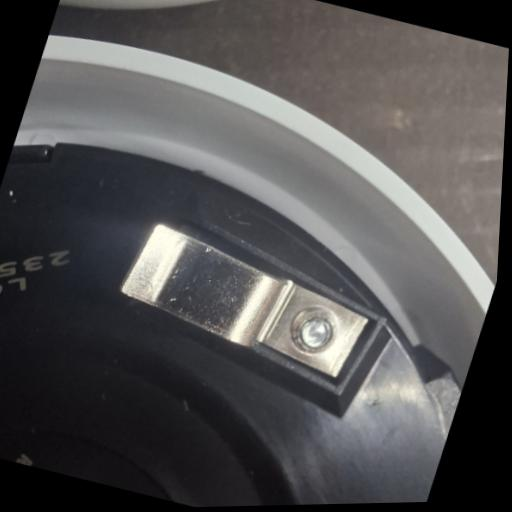yaysiz: (105, 212, 390, 395)
